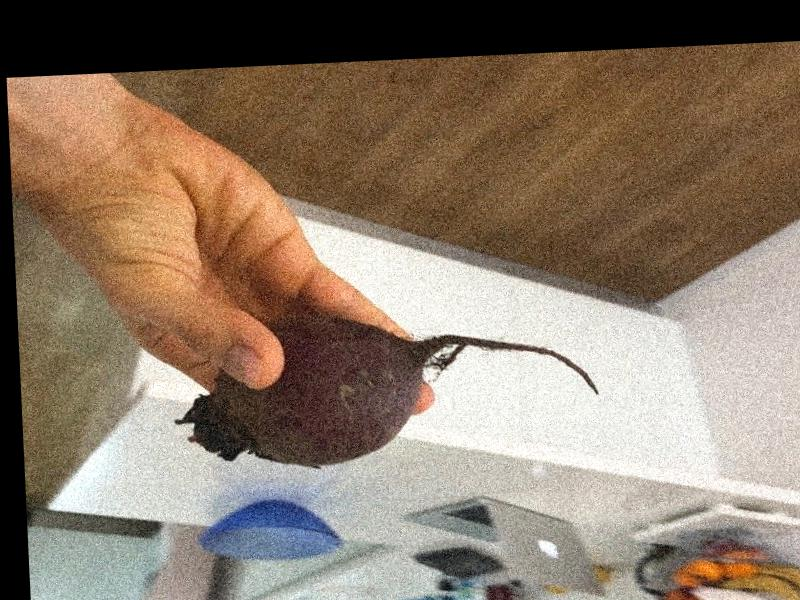Beet: (174, 306, 601, 471)
